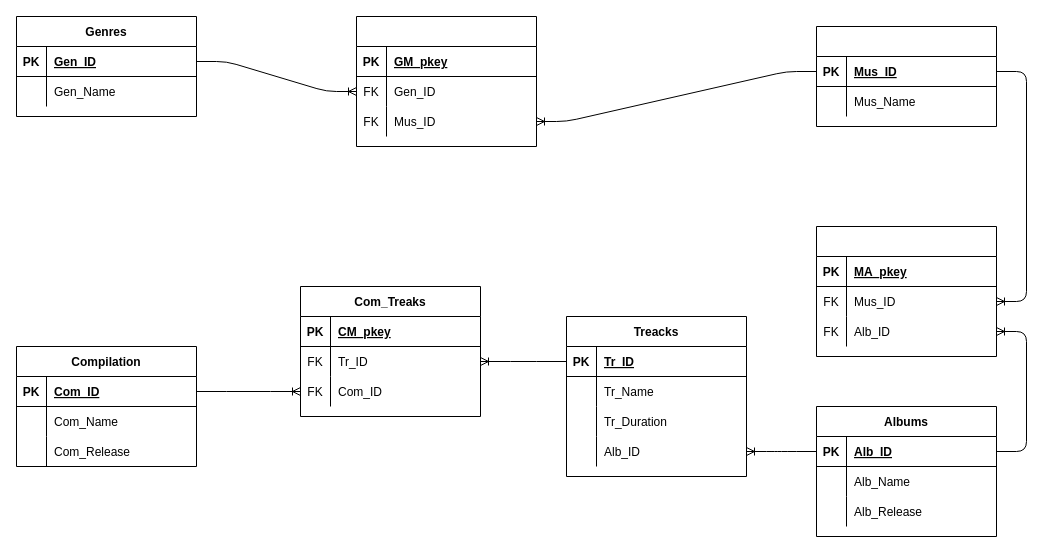
Image size: 1043x553. Some labels were removed from this diagram. Here are the shapes that lost their labels. From the top down, the box of each, then its label:
(356, 16, 536, 146): Gen_Mus
(816, 26, 996, 126): Musicians
(816, 226, 996, 356): Mus_Alb
